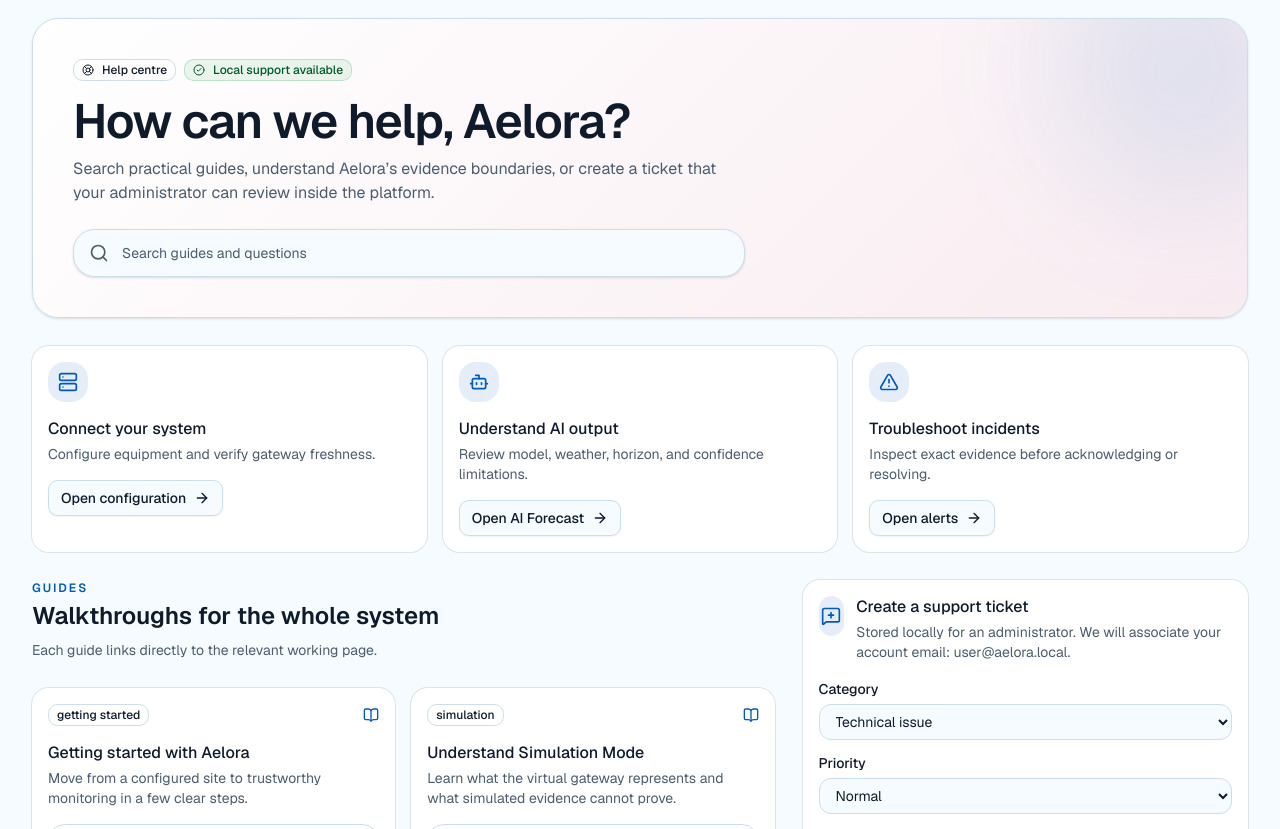
Test: HelpSupportDashboard › shows an honest empty result and empty ticket state
In the field with placeholder "Search guides and questions": (409, 253) top-left (73, 229), bottom-right (745, 277), type "unmatched phrase 9842"
(page scrolled)
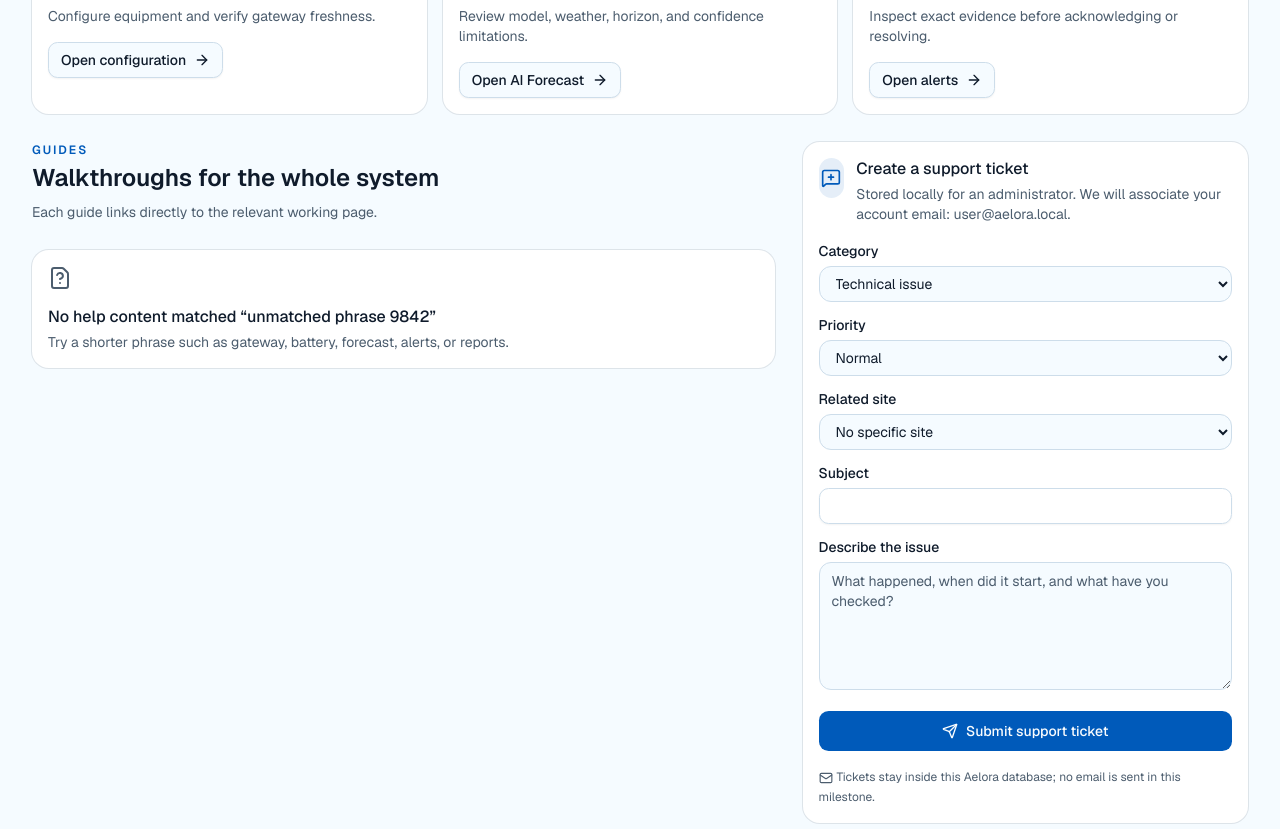
Check: the dropdown labelled "Related site" shows "No specific site", box top-left (818, 414), bottom-right (1232, 450)
Check: the text "No help content matched “unmatched phrase 9842”" is shown, box top-left (48, 306), bottom-right (436, 327)
